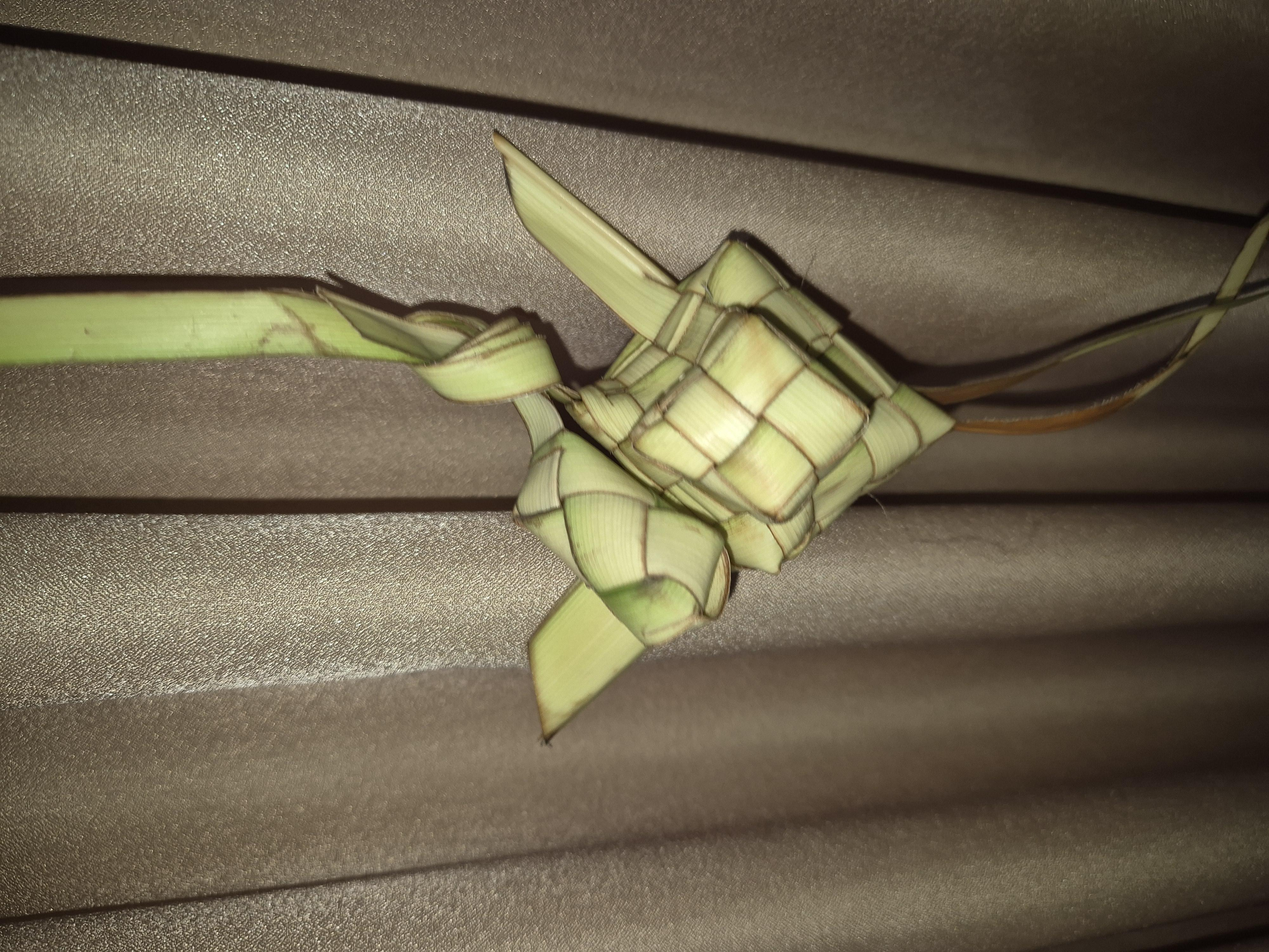Tipat Gong: (504, 426, 947, 715)
